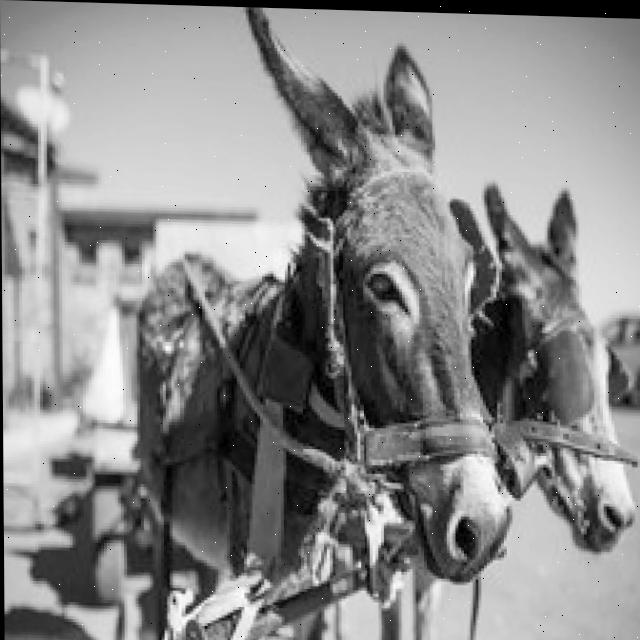Donkey: (126, 4, 510, 640), (287, 174, 639, 640)
